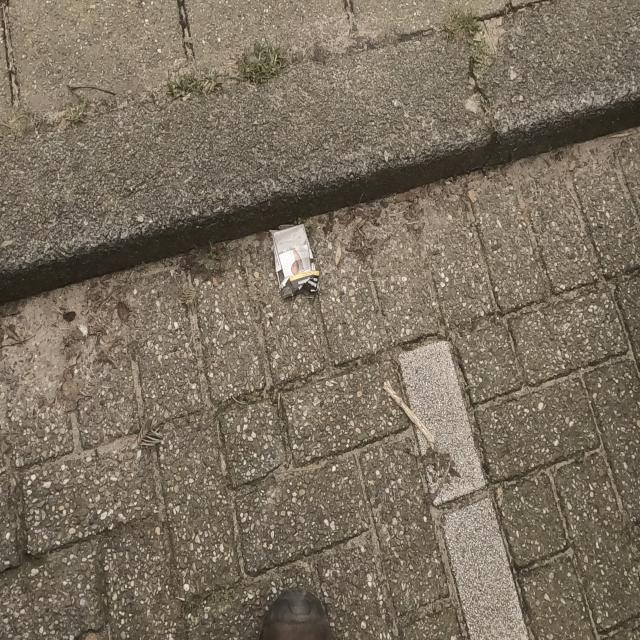Paper: (270, 222, 320, 301)
